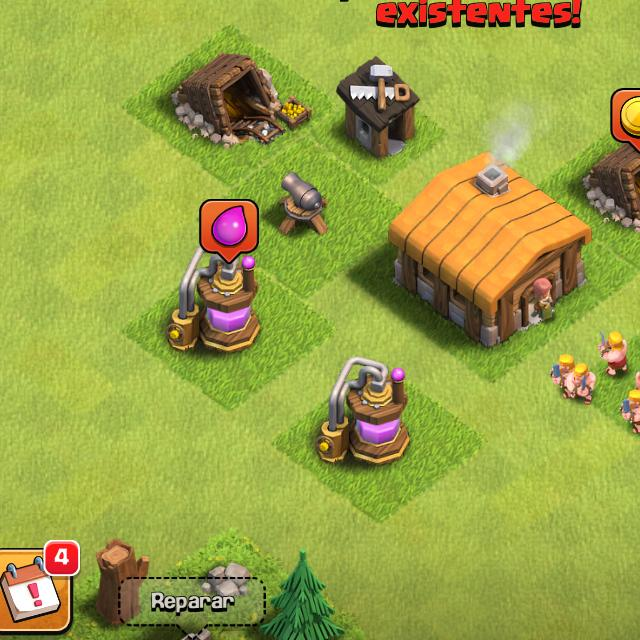Canhao: (275, 166, 335, 242)
FullCoin: (611, 88, 640, 151)
FullElixir: (200, 200, 259, 266)
